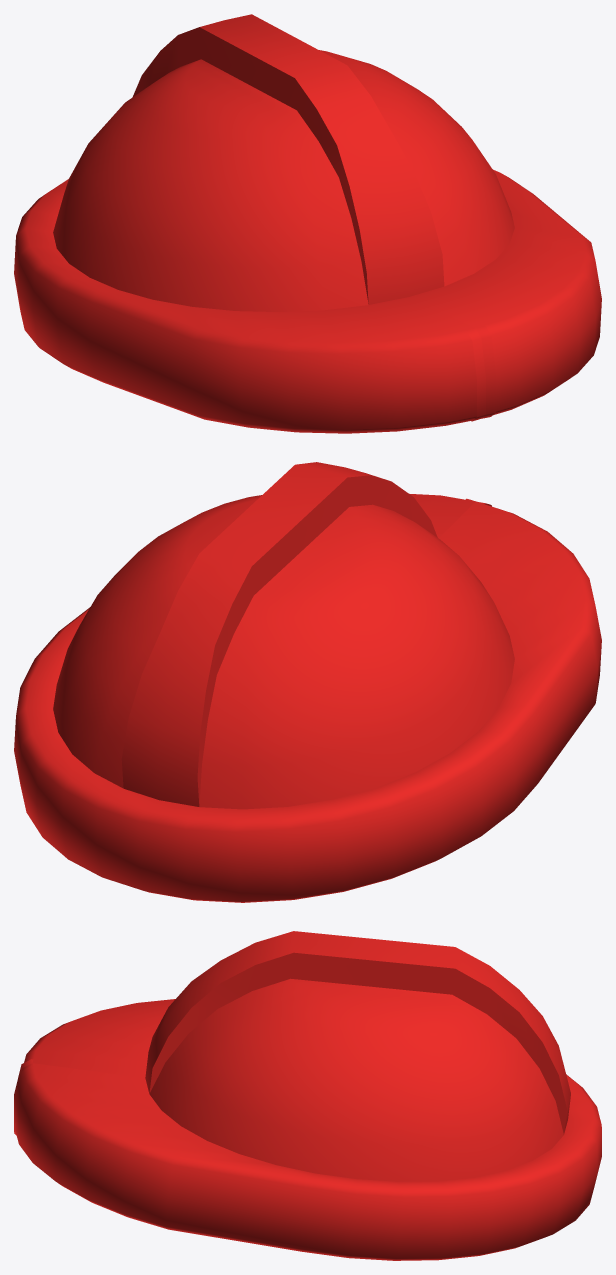
The model's file is Casca.fbx.
The picture shows the model from 3 angles, top to bottom: view 1: azimuth 30°, elevation 25°; view 2: azimuth 150°, elevation 25°; view 3: azimuth 270°, elevation 25°; orthographic projection. The views are drawn at different scales.
Parts seen in each view (by area): view 1: Casca; view 2: Casca; view 3: Casca.
Part boxes in pixels (x1,y1,x2,y2): Casca: (14, 14, 601, 433); Casca: (14, 462, 601, 902); Casca: (14, 931, 601, 1260).
Size of the model in its own units: 55.81 by 34.44 by 73.33.
